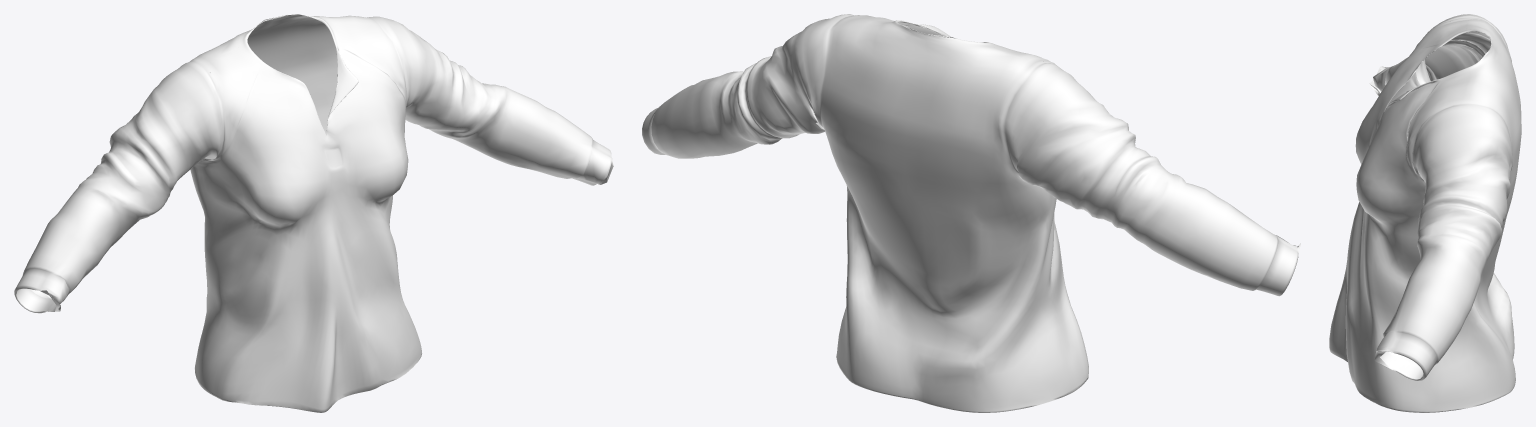
The model's file is Longsleeve.glb.
The picture shows the model from 3 angles, left to right: view 1: azimuth 30°, elevation 25°; view 2: azimuth 150°, elevation 25°; view 3: azimuth 270°, elevation 25°; orthographic projection. The views are drawn at different scales.
Visible parts, largest first — view 1: Newport_Shirt_10879.003; view 2: Newport_Shirt_10879.003; view 3: Newport_Shirt_10879.003.
Part boxes in pixels (x1=…): Newport_Shirt_10879.003: x1=14, y1=14, x2=613, y2=412; Newport_Shirt_10879.003: x1=642, y1=14, x2=1300, y2=412; Newport_Shirt_10879.003: x1=1329, y1=14, x2=1521, y2=412.
Bounding box in the file's own units: 21.44 × 11.4 × 6.11.
Materials: 1 (1 with a texture image).
